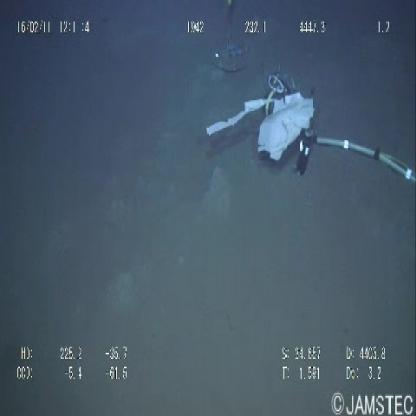Rác: (203, 78, 317, 166)
